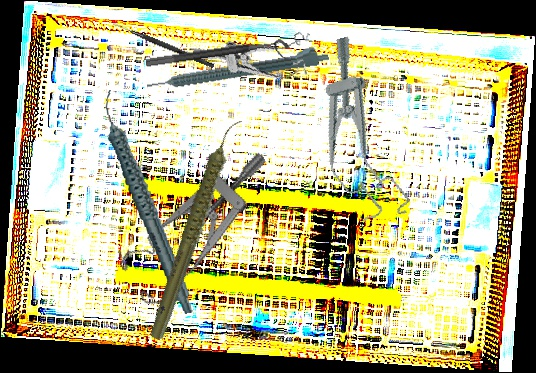Fixation Ring: (145, 38, 292, 79)
Handpiece: (107, 115, 287, 344), (100, 82, 194, 322), (144, 42, 330, 93)
Hook Surgical: (111, 21, 216, 69)
Speculum: (100, 150, 302, 314), (297, 32, 413, 230), (191, 22, 319, 99)
